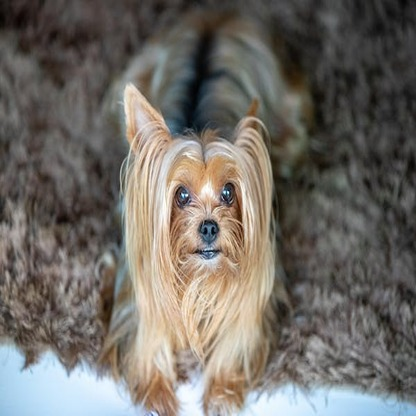yorkshire: (99, 83, 286, 416)
